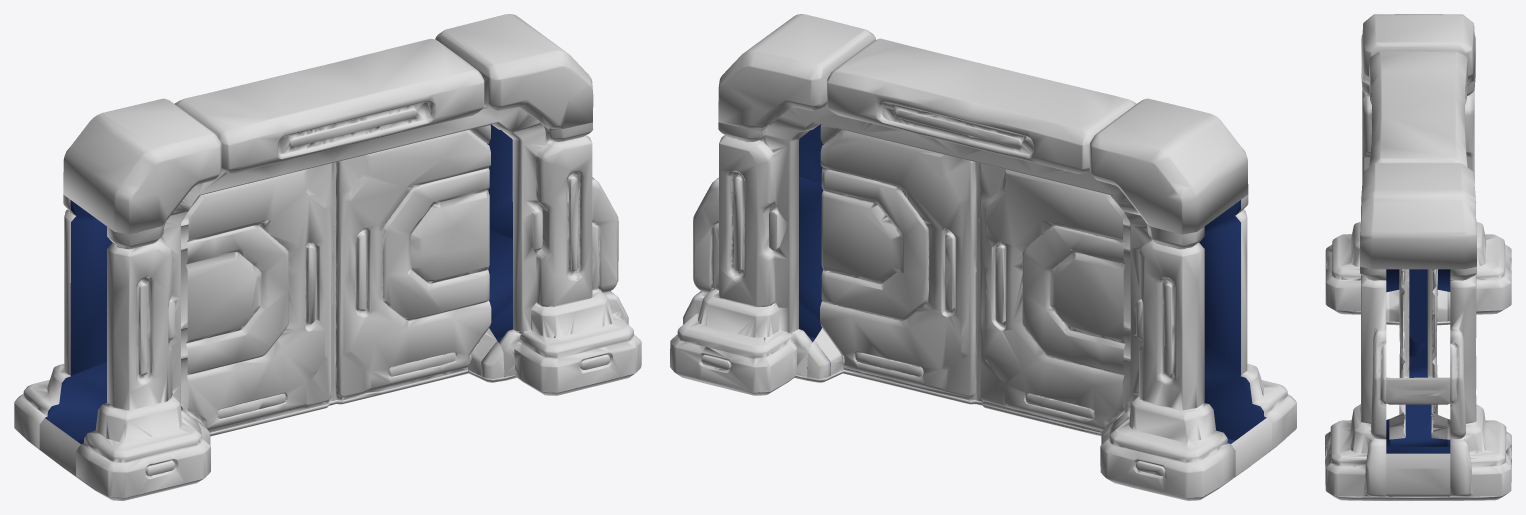
Rendered from cryo-blast-door.glb.
3 views of the same model, side by side, from view 1: azimuth 30°, elevation 25°; view 2: azimuth 150°, elevation 25°; view 3: azimuth 270°, elevation 25° (orthographic). The views are drawn at different scales.
Parts seen in each view (by area): view 1: frame, leaf_right, leaf_left; view 2: frame, leaf_right, leaf_left; view 3: frame, leaf_right, leaf_left.
Part boxes in pixels (x1,y1,x2,y2): frame: (14,14,641,500); leaf_right: (334,125,496,400); leaf_left: (181,162,334,432); frame: (670,14,1296,500); leaf_right: (814,125,977,400); leaf_left: (977,162,1130,432); frame: (1325,14,1511,500); leaf_right: (1389,269,1447,446); leaf_left: (1389,269,1447,356).
Bounding box in the file's own units: 4.6 × 2.61 × 1.55.
